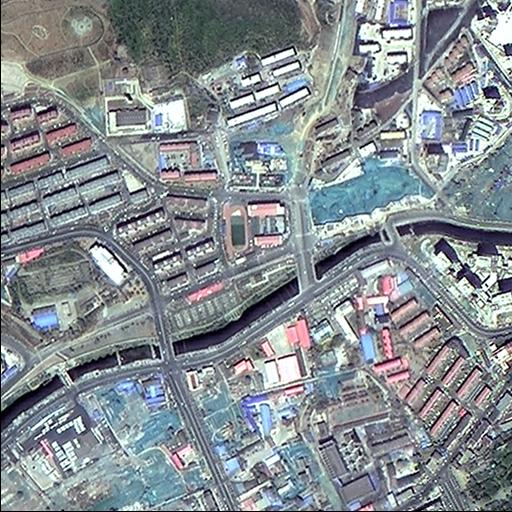school: (217, 196, 296, 268), (321, 366, 392, 432)
